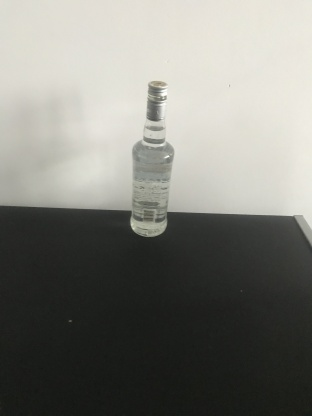nakretka: (145, 79, 168, 121)
